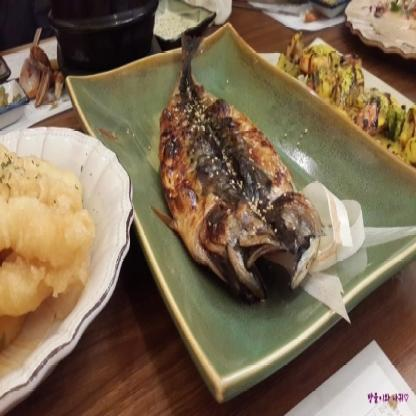Peixe: (152, 16, 325, 318)
